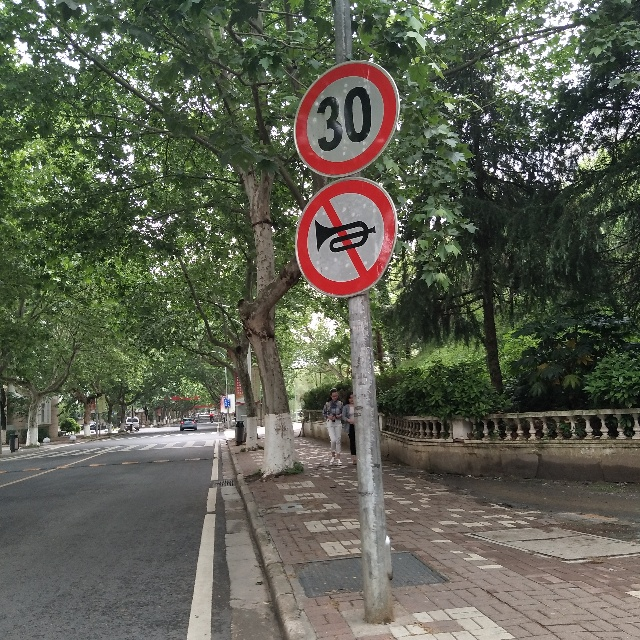nohonk: (302, 191, 396, 280)
